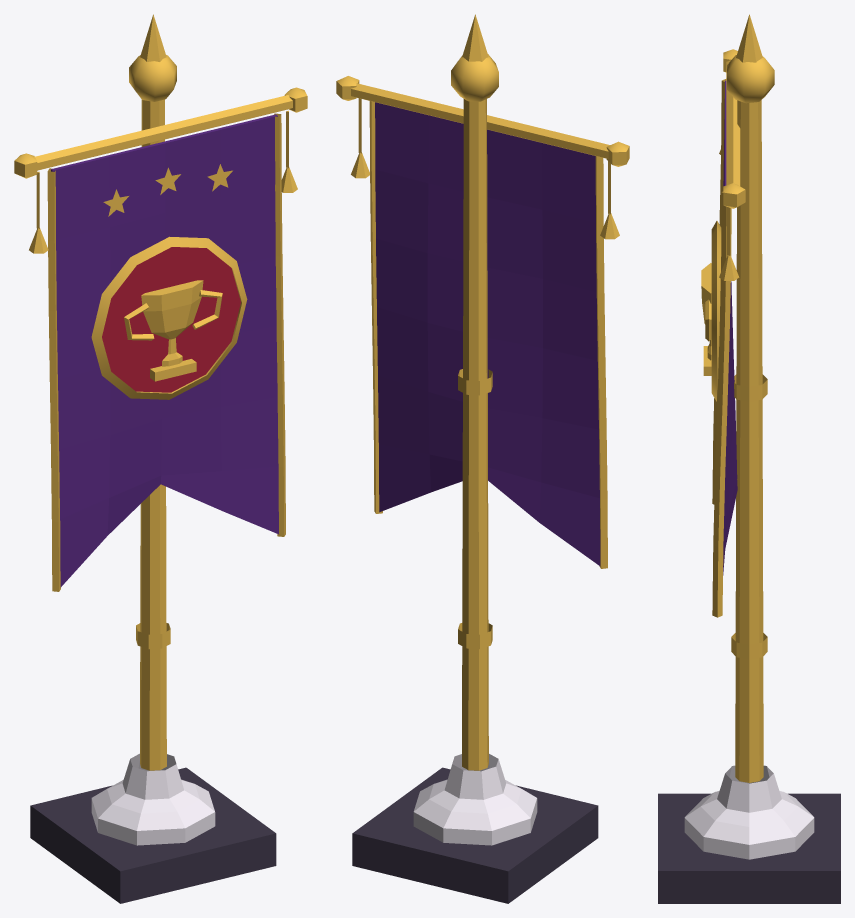
Rendered from champion_banner.glb.
The picture shows the model from 3 angles, left to right: view 1: azimuth 30°, elevation 25°; view 2: azimuth 150°, elevation 25°; view 3: azimuth 270°, elevation 25°; orthographic projection.
Parts seen in each view (by area): view 1: champion_banner; view 2: champion_banner; view 3: champion_banner.
Boxes of the visible parts, box(x1,y1,x2,y2) form: champion_banner: box(14, 14, 307, 903); champion_banner: box(336, 14, 629, 903); champion_banner: box(658, 14, 840, 903).
Bounding box in the file's own units: 1.68 × 4.62 × 0.9.
